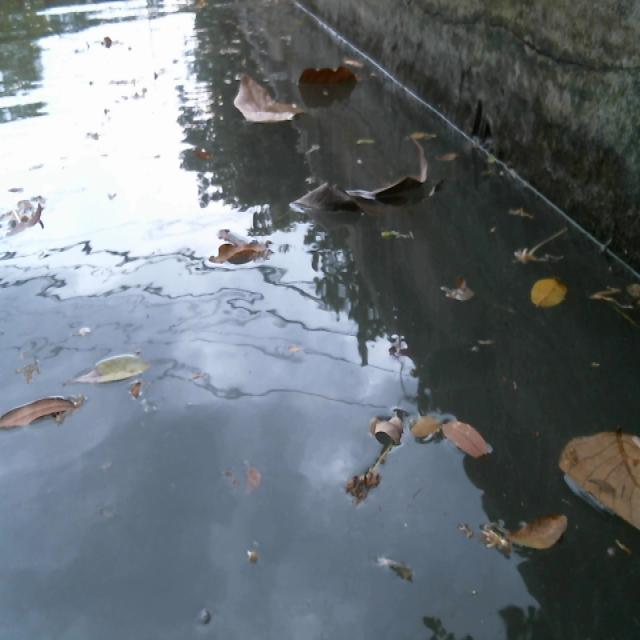Big-leaf: (285, 143, 441, 228), (553, 427, 640, 534), (204, 209, 277, 273), (237, 84, 302, 138), (298, 58, 363, 97)
Small-leaf: (0, 390, 88, 444), (495, 502, 565, 558), (365, 549, 429, 603), (60, 351, 145, 389), (574, 281, 640, 316), (442, 423, 502, 456), (365, 406, 408, 438), (435, 279, 475, 312), (528, 279, 561, 317), (412, 404, 442, 440), (440, 151, 465, 167)
